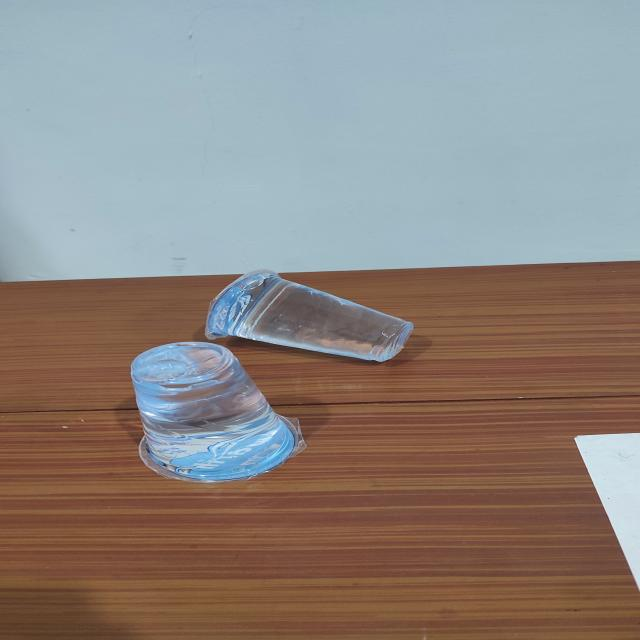air gelas: (124, 343, 314, 491), (195, 268, 435, 366)
